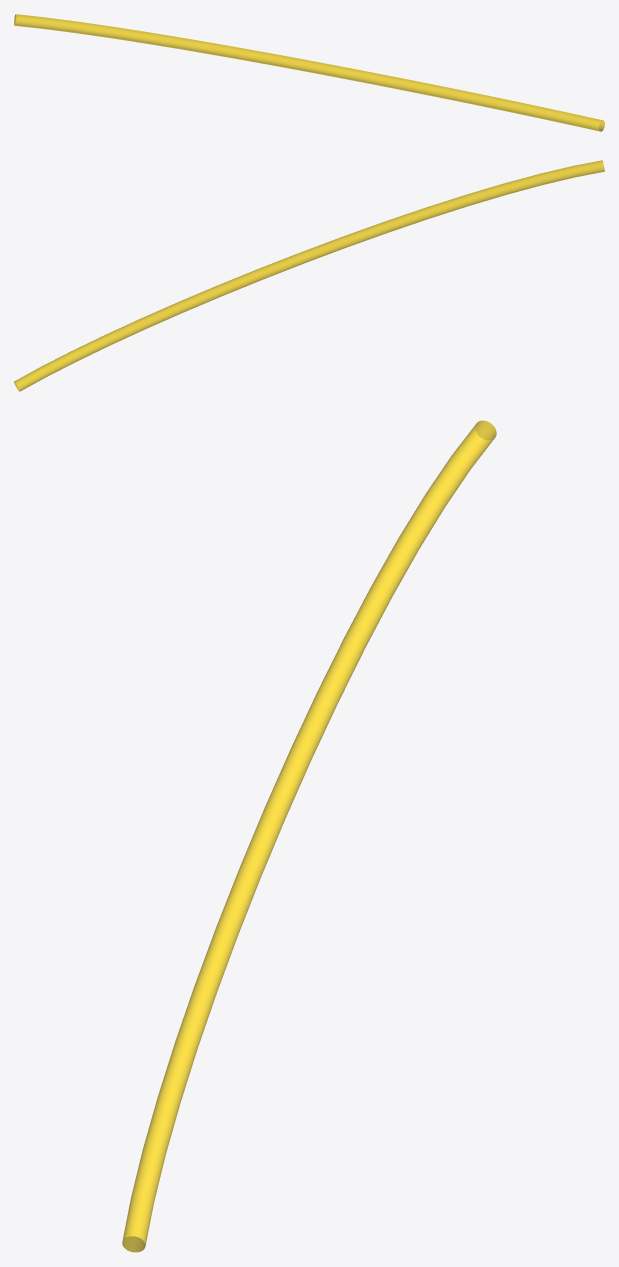
Rendered from Event_100608114_track_110.fbx.
3 renders of one model, top to bottom at view 1: azimuth 30°, elevation 25°; view 2: azimuth 210°, elevation 25°; view 3: azimuth 270°, elevation 25°, orthographic. The views are drawn at different scales.
Parts seen in each view (by area): view 1: Model; view 2: Model; view 3: Model.
Part boxes in pixels (bbox=[...]): Model: bbox=[14, 14, 604, 131]; Model: bbox=[14, 160, 604, 391]; Model: bbox=[122, 420, 496, 1252].
Bounding box in the file's own units: 1.97 × 0.6488 × 0.6336.
